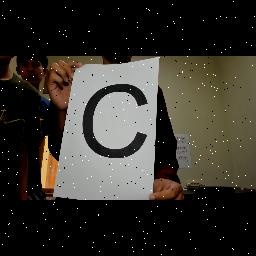c: (79, 80, 151, 162)
